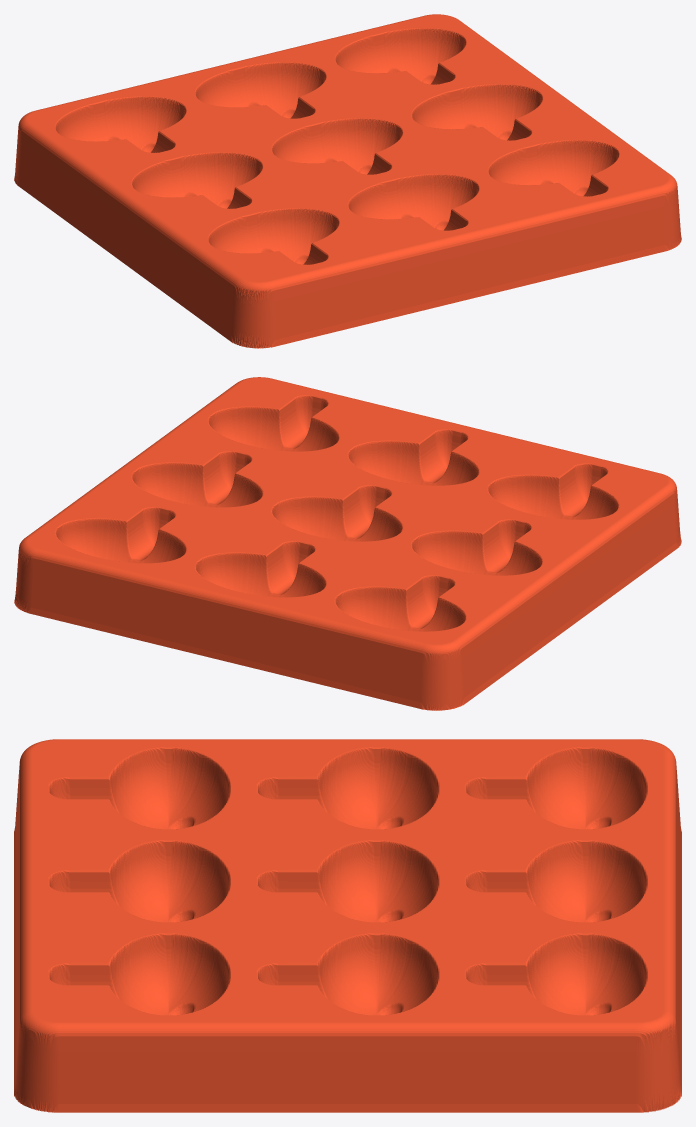
The model's file is mold.glb.
3 renders of one model, top to bottom at view 1: azimuth 30°, elevation 25°; view 2: azimuth 150°, elevation 25°; view 3: azimuth 270°, elevation 25°, orthographic. The views are drawn at different scales.
Parts seen in each view (by area): view 1: geometry_0; view 2: geometry_0; view 3: geometry_0.
Part boxes in pixels (bbox=[...]): geometry_0: bbox=[14, 14, 681, 348]; geometry_0: bbox=[14, 377, 681, 710]; geometry_0: bbox=[14, 739, 681, 1112].
Bounding box in the file's own units: 0.1402 × 0.0182 × 0.1331.
